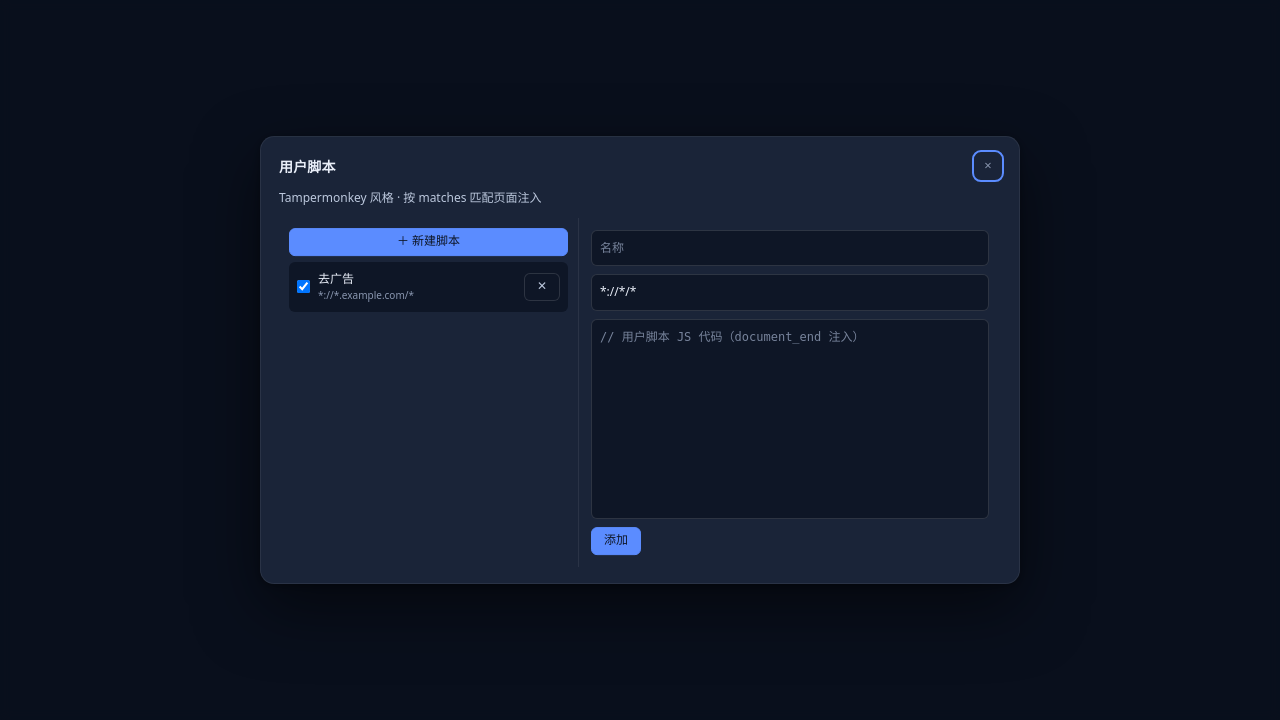
UserscriptsDialog · 编辑 / 启用 / 删除 › 取消编辑：表单重置回新建态
Click the element with class "us-meta". click: (366, 286)
box: 318,270 -> 414,302
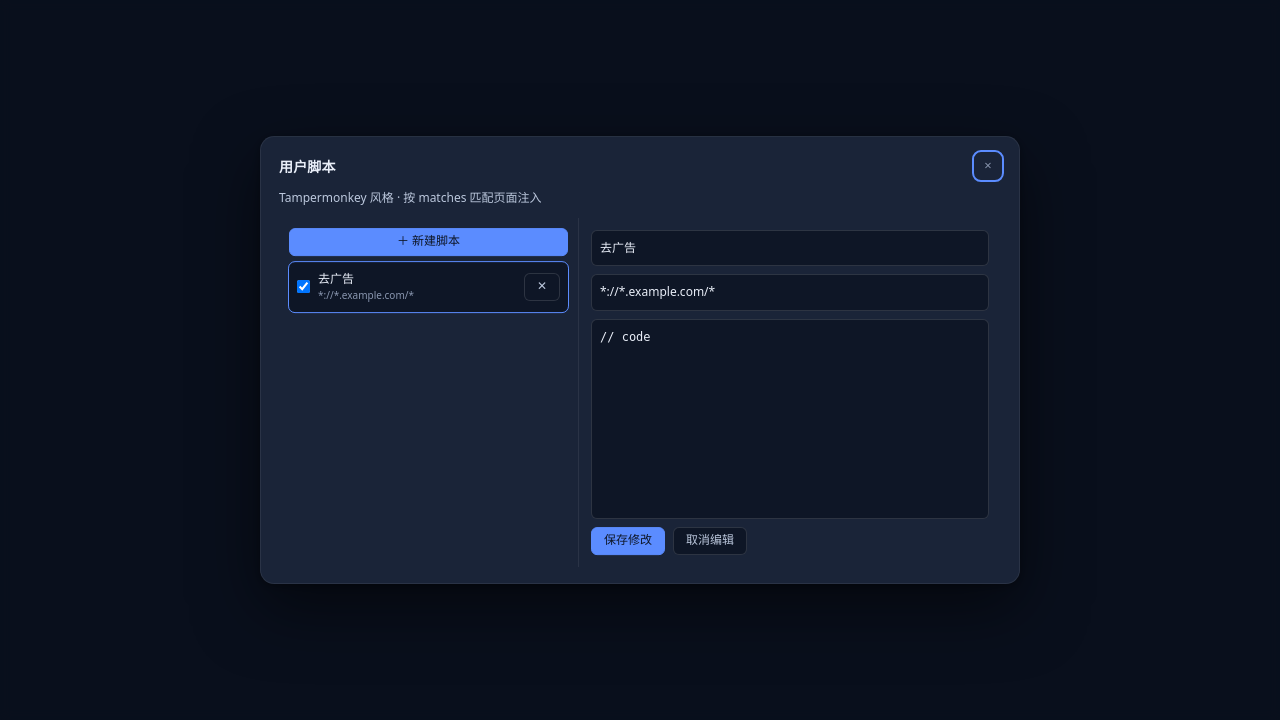
Click the button with class "us-btn" showing "取消编辑". click: (710, 541)
box: 673,527 -> 747,555
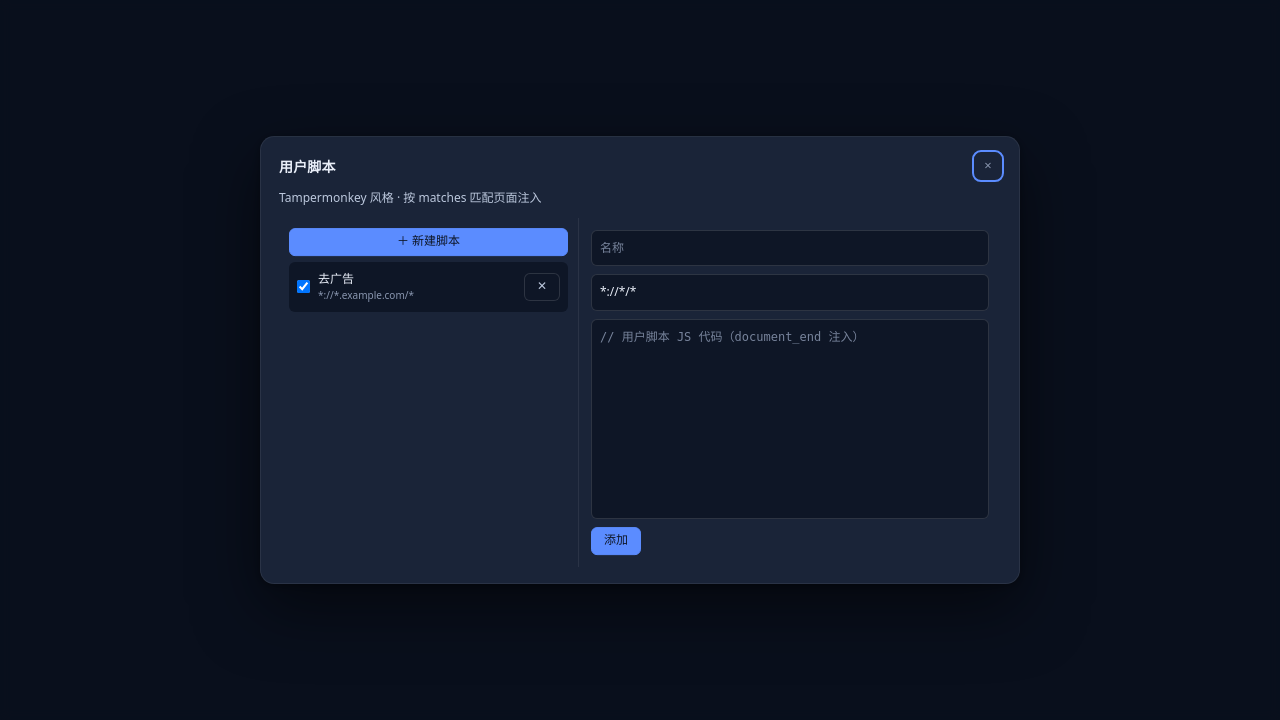
Result: the field with class "us-input" is empty at 591,230 -> 989,266
Result: the button with class "us-btn" reads "添加" at 591,527 -> 641,555
